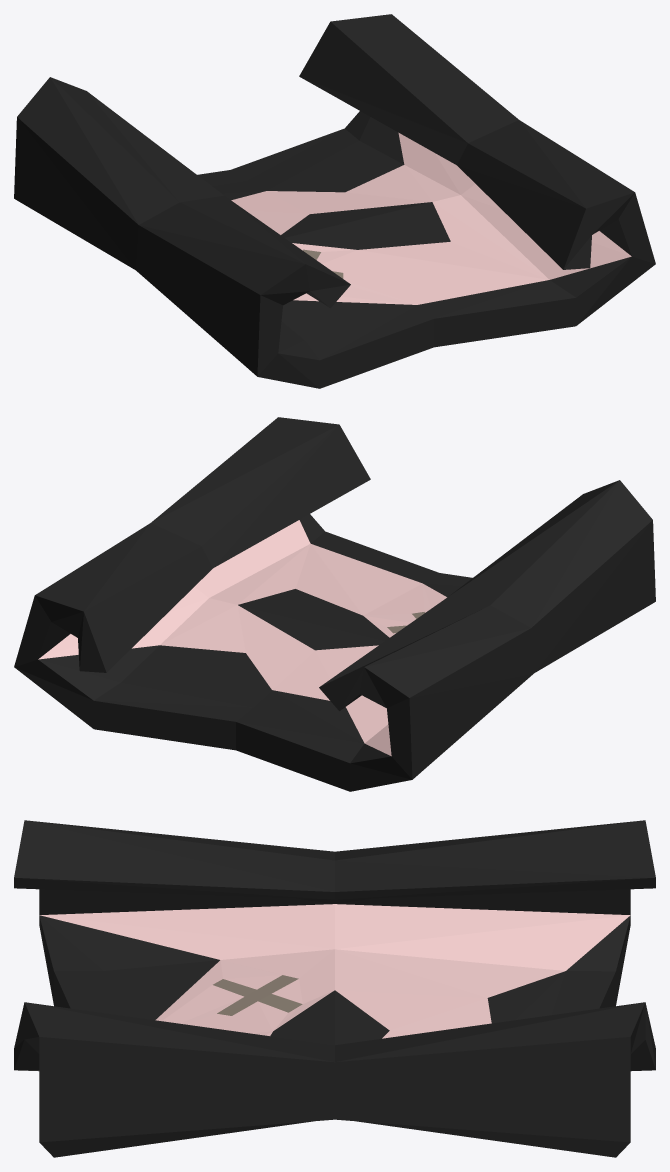
The model's file is SM_Item_Map_02.glb.
3 views of the same model, one above another, from view 1: azimuth 30°, elevation 25°; view 2: azimuth 150°, elevation 25°; view 3: azimuth 270°, elevation 25° (orthographic). The views are drawn at different scales.
Parts seen in each view (by area): view 1: SM_Item_Map_02_00; view 2: SM_Item_Map_02_00; view 3: SM_Item_Map_02_00.
Part boxes in pixels (x1,y1,x2,y2): SM_Item_Map_02_00: (14,14,655,388); SM_Item_Map_02_00: (14,417,655,791); SM_Item_Map_02_00: (14,820,655,1157).
Bounding box in the file's own units: 0.3798 × 0.1275 × 0.4363.
1 material, 1 textured.
